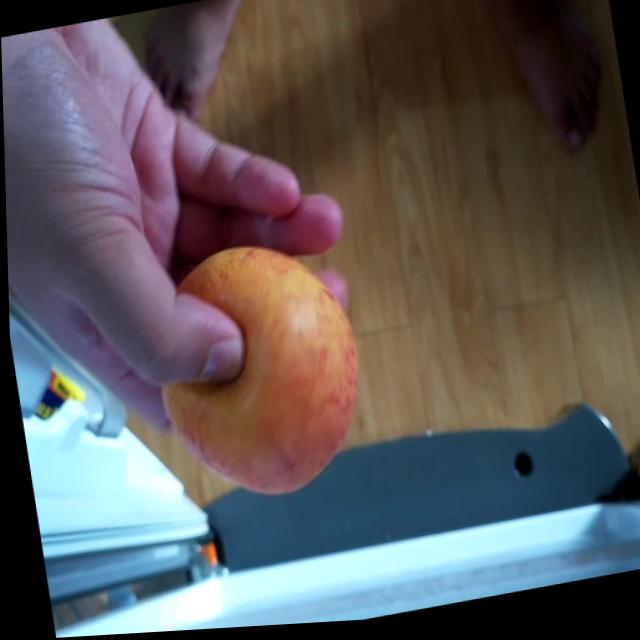apple: (130, 227, 375, 521)
